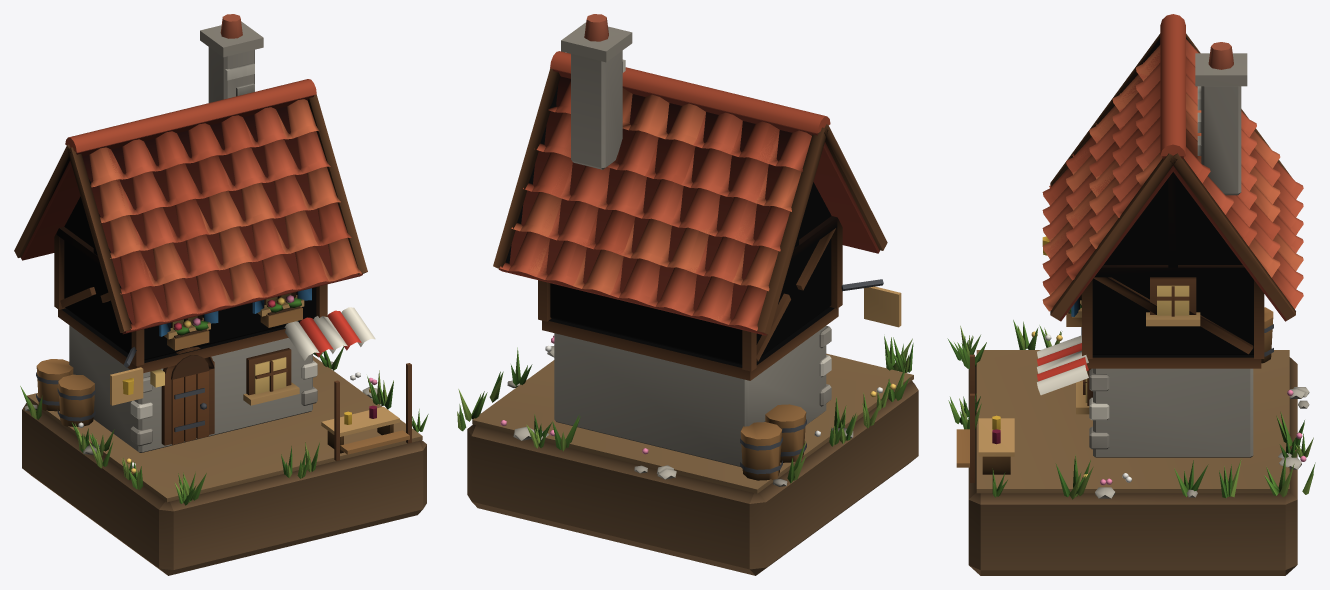
File: tavern.glb
3 renders of one model, left to right at view 1: azimuth 30°, elevation 25°; view 2: azimuth 150°, elevation 25°; view 3: azimuth 270°, elevation 25°, orthographic. The views are drawn at different scales.
Visible parts, largest first — view 1: tavern_l1, tavern_l3, tavern_l2; view 2: tavern_l1, tavern_l2, tavern_l3; view 3: tavern_l1, tavern_l3, tavern_l2.
Part boxes in pixels (x1,y1,x2,y2): tavern_l1: [14, 14, 426, 575]; tavern_l3: [78, 65, 411, 489]; tavern_l2: [20, 67, 428, 502]; tavern_l1: [457, 14, 918, 575]; tavern_l2: [511, 59, 912, 486]; tavern_l3: [500, 164, 909, 448]; tavern_l1: [947, 14, 1315, 575]; tavern_l3: [948, 51, 1313, 499]; tavern_l2: [954, 73, 1309, 497].
Size of the model in its own units: 0.9469 by 1.34 by 0.9179.
